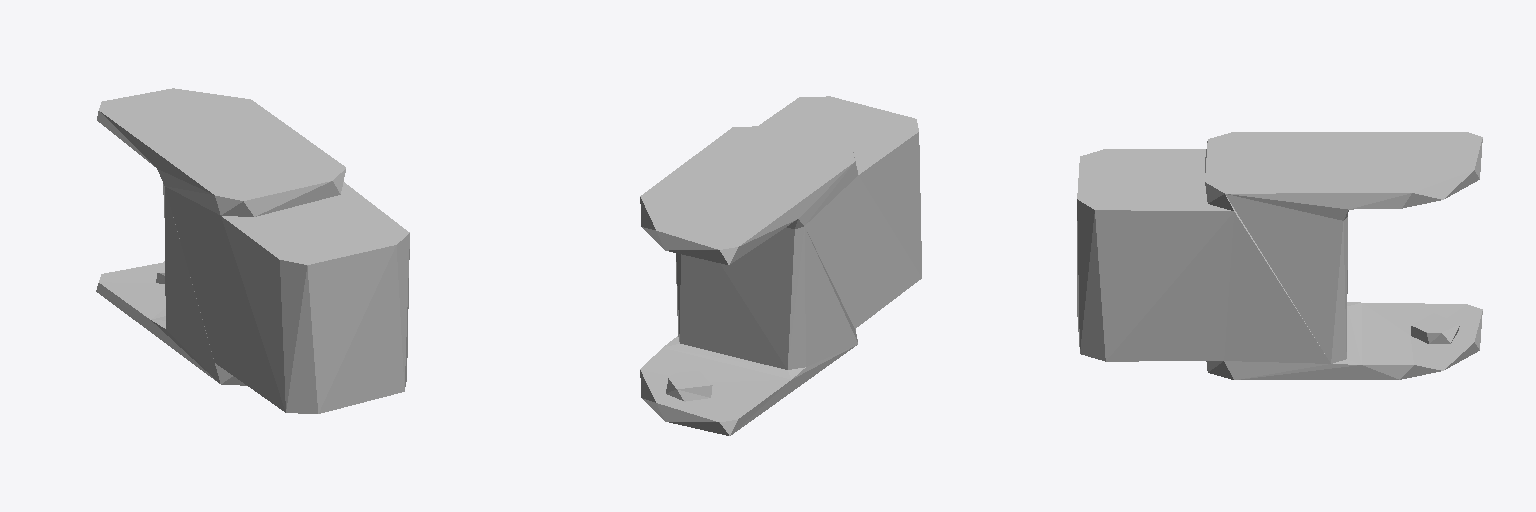
File: 3_finger.obj
3 renders of one model, left to right at view 1: azimuth 30°, elevation 25°; view 2: azimuth 150°, elevation 25°; view 3: azimuth 270°, elevation 25°, orthographic.
Parts seen in each view (by area): view 1: 3_finger; view 2: 3_finger; view 3: 3_finger.
Boxes of the visible parts, box(x1,y1,x2,y2) form: 3_finger: box(96, 88, 409, 413); 3_finger: box(640, 96, 921, 435); 3_finger: box(1077, 132, 1482, 379).
Size of the model in its own units: 0.0196 by 0.027 by 0.0533.